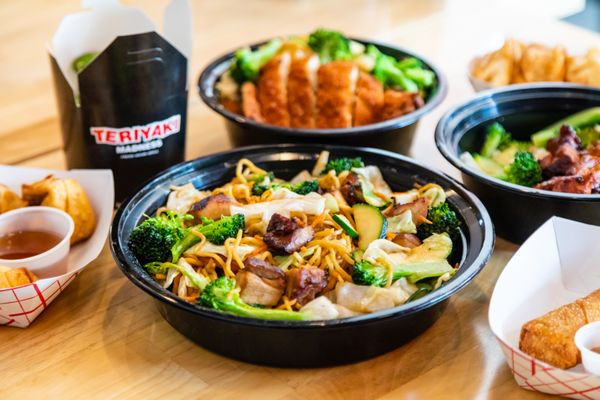curry: (195, 275, 304, 321), (129, 209, 202, 265), (232, 36, 285, 83), (307, 28, 354, 62), (502, 148, 542, 186)
sushi: (101, 142, 500, 368), (192, 22, 449, 144), (435, 83, 600, 246), (488, 213, 600, 396), (0, 161, 115, 329), (0, 205, 74, 280)
